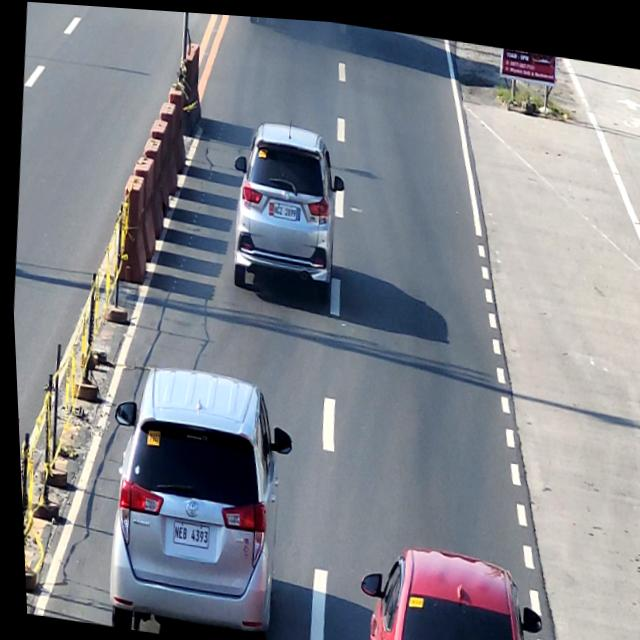Car: (91, 356, 300, 640), (221, 111, 352, 301), (349, 532, 542, 640)
License-Plate: (167, 519, 204, 547), (270, 199, 295, 217)
